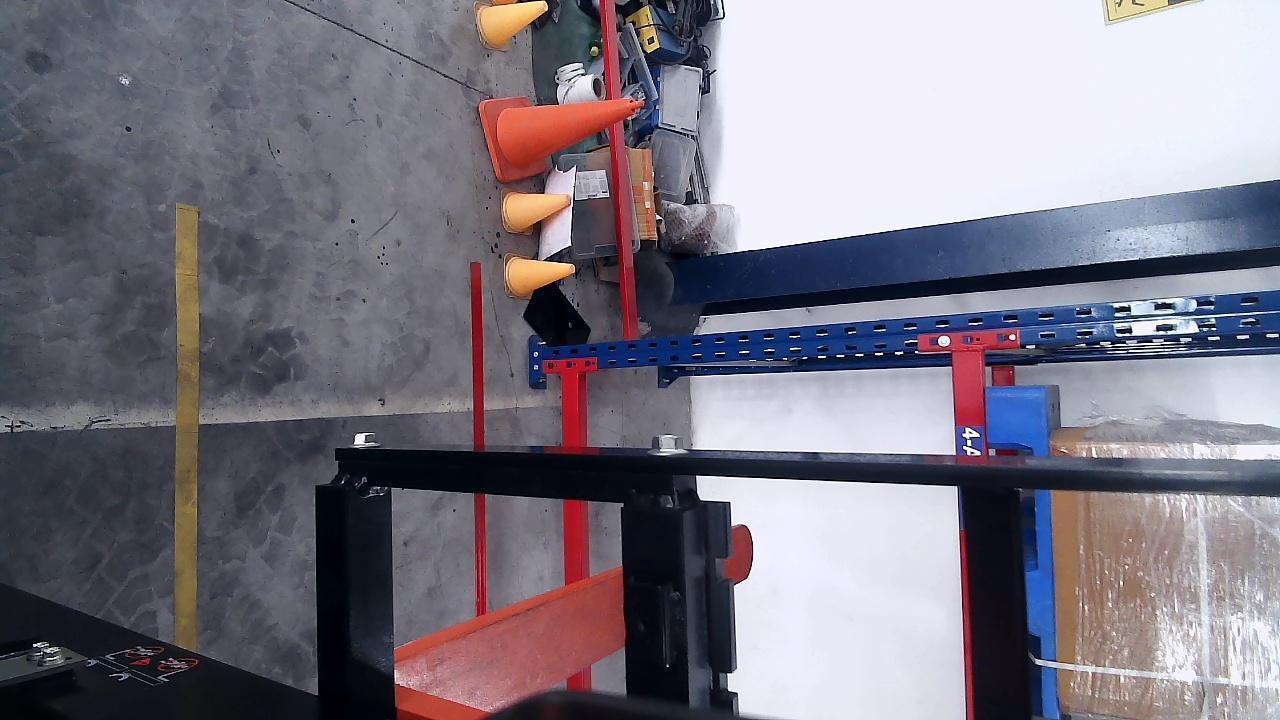red_line: (466, 262, 490, 612)
yellow_line: (175, 205, 200, 653)
